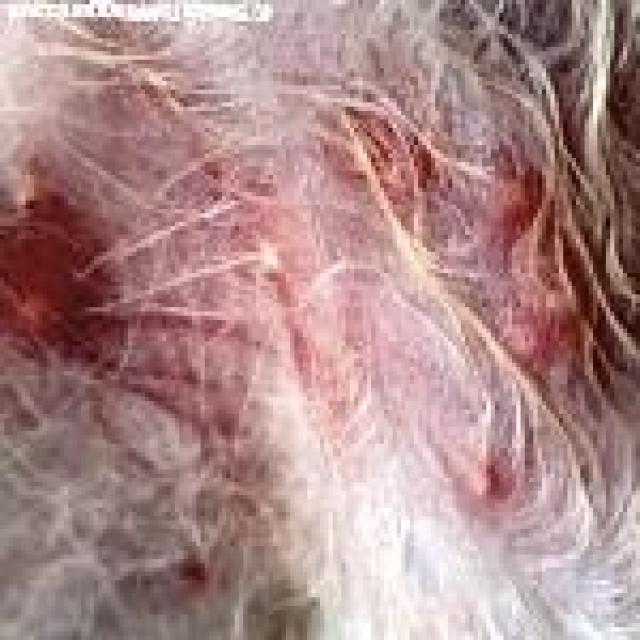fungal infection: (189, 169, 353, 428), (0, 166, 144, 366), (472, 169, 599, 364), (326, 89, 451, 188), (428, 452, 512, 502), (168, 547, 212, 591)
